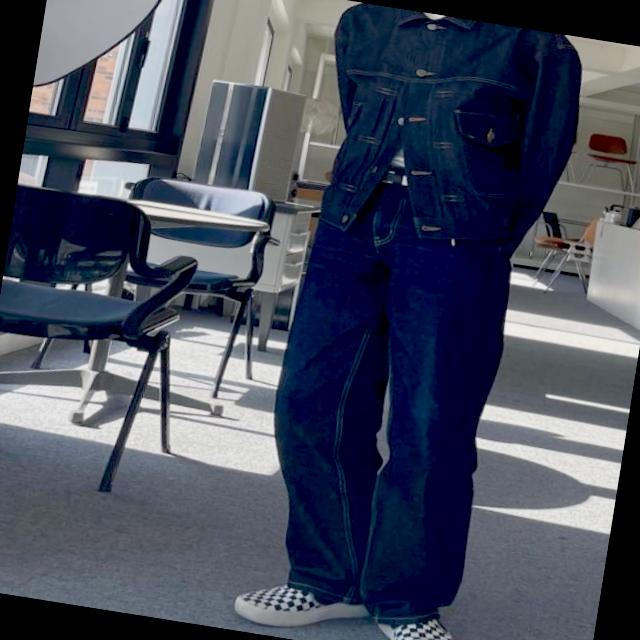denimpants: (242, 165, 526, 634)
jacket: (307, 0, 595, 267)
